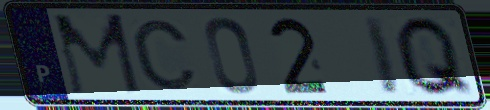0: (202, 14, 262, 97)
2: (267, 15, 331, 96)
C: (129, 17, 201, 93)
I: (359, 14, 404, 99)
M: (50, 11, 145, 98)
Q: (391, 13, 478, 99)
